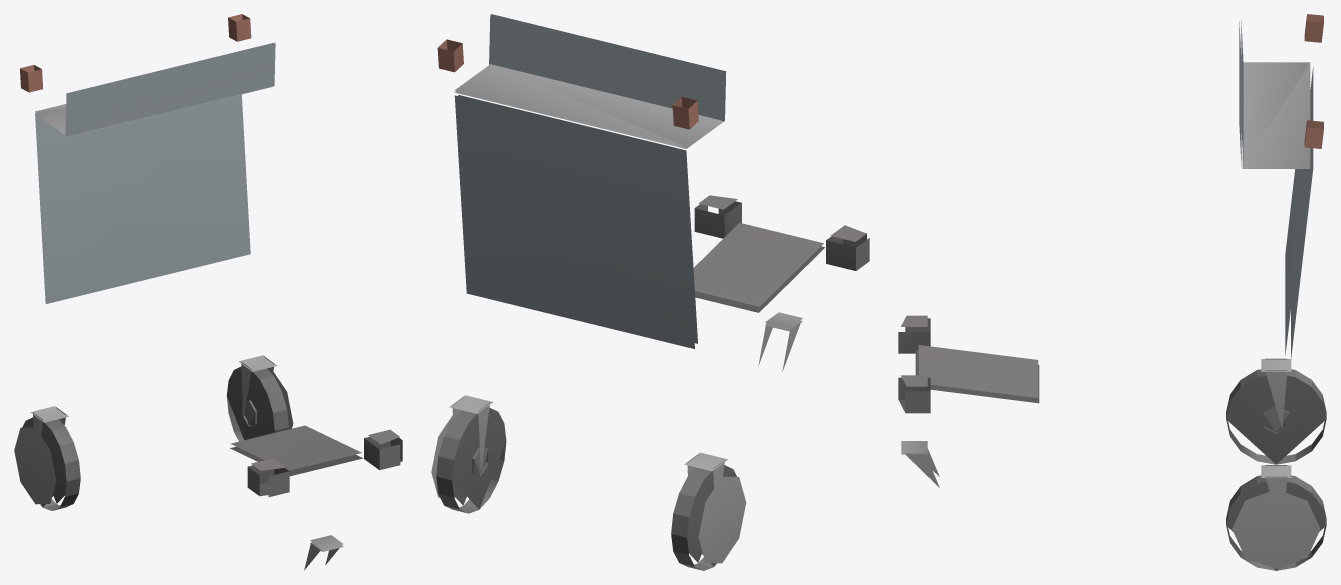
File: trolley.lod.glb
3 views of the same model, side by side, from view 1: azimuth 30°, elevation 25°; view 2: azimuth 150°, elevation 25°; view 3: azimuth 270°, elevation 25° (orthographic). The views are drawn at different scales.
Parts seen in each view (by area): view 1: trolley; view 2: trolley; view 3: trolley.
Boxes of the visible parts, x1,y1,x2,y2 form: trolley: (14, 14, 402, 570); trolley: (431, 14, 869, 570); trolley: (898, 14, 1326, 570).
Bounding box in the file's own units: 0.569 × 0.9751 × 0.852.
